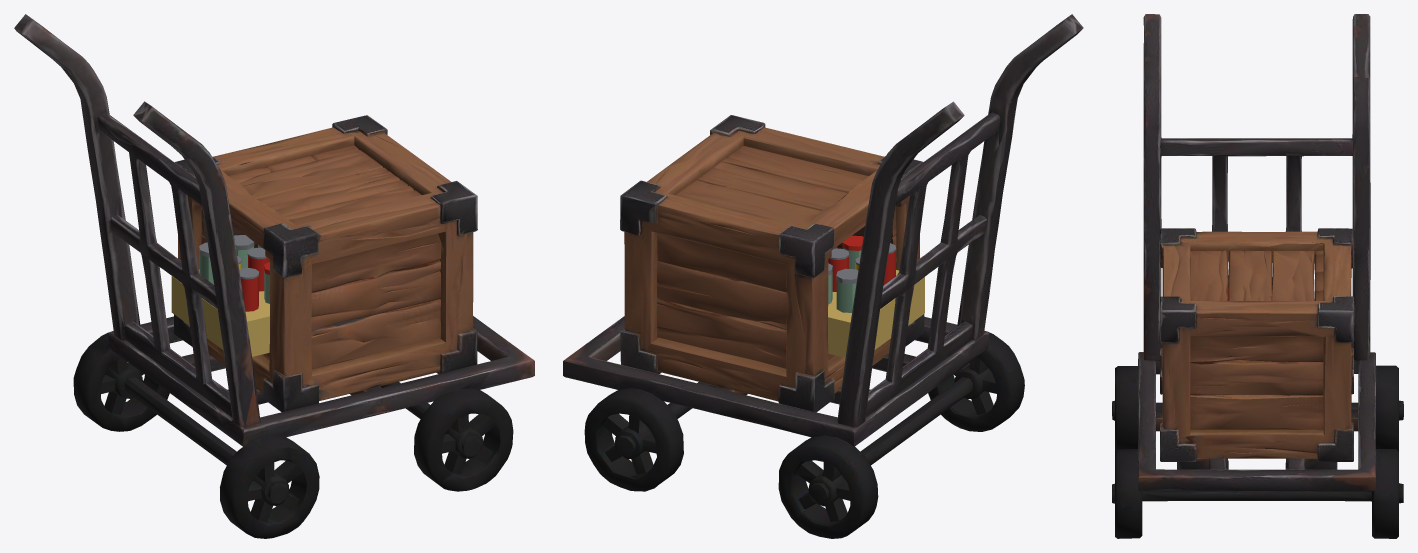
File: decor_cart_crate.glb
3 views of the same model, side by side, from view 1: azimuth 30°, elevation 25°; view 2: azimuth 150°, elevation 25°; view 3: azimuth 270°, elevation 25° (orthographic). The views are drawn at different scales.
Visible parts, largest first — view 1: body, lid, wheel_1, wheel_3, wheel_2; view 2: body, lid, wheel_2, wheel_4, wheel_1; view 3: body, lid, wheel_3, wheel_4, wheel_1, wheel_2.
Boxes of the visible parts, x1,y1,x2,y2 form: body: (14, 14, 534, 465); lid: (175, 128, 436, 265); wheel_1: (220, 429, 319, 538); wheel_3: (414, 383, 513, 491); wheel_2: (73, 331, 169, 431); body: (563, 14, 1083, 465); lid: (661, 128, 923, 265); wheel_2: (778, 429, 878, 538); wheel_4: (584, 382, 683, 491); wheel_1: (928, 330, 1024, 431); body: (1138, 14, 1375, 501); lid: (1159, 228, 1353, 300); wheel_3: (1112, 449, 1147, 538); wheel_4: (1366, 449, 1403, 538); wheel_1: (1112, 363, 1138, 451); wheel_2: (1376, 365, 1403, 451).
Size of the model in its own units: 1.1 by 1.2 by 0.8106.
Materials: 9 (4 with a texture image).
